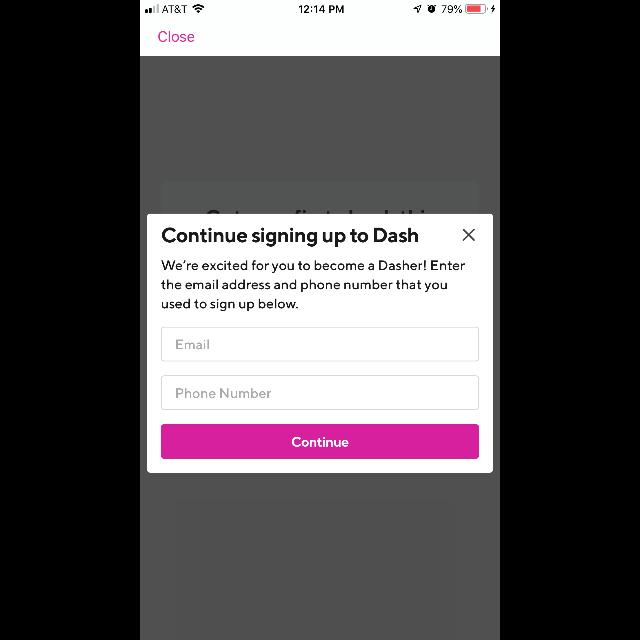icon: (462, 229, 476, 241)
input: (161, 326, 479, 362), (161, 376, 479, 410)
panel: (147, 213, 493, 472)
text: (161, 260, 465, 312), (162, 227, 418, 247), (176, 388, 272, 398), (159, 32, 195, 42), (177, 339, 210, 349)
textbutton: (161, 424, 479, 460)
uppertaskbar: (140, 0, 500, 14)
